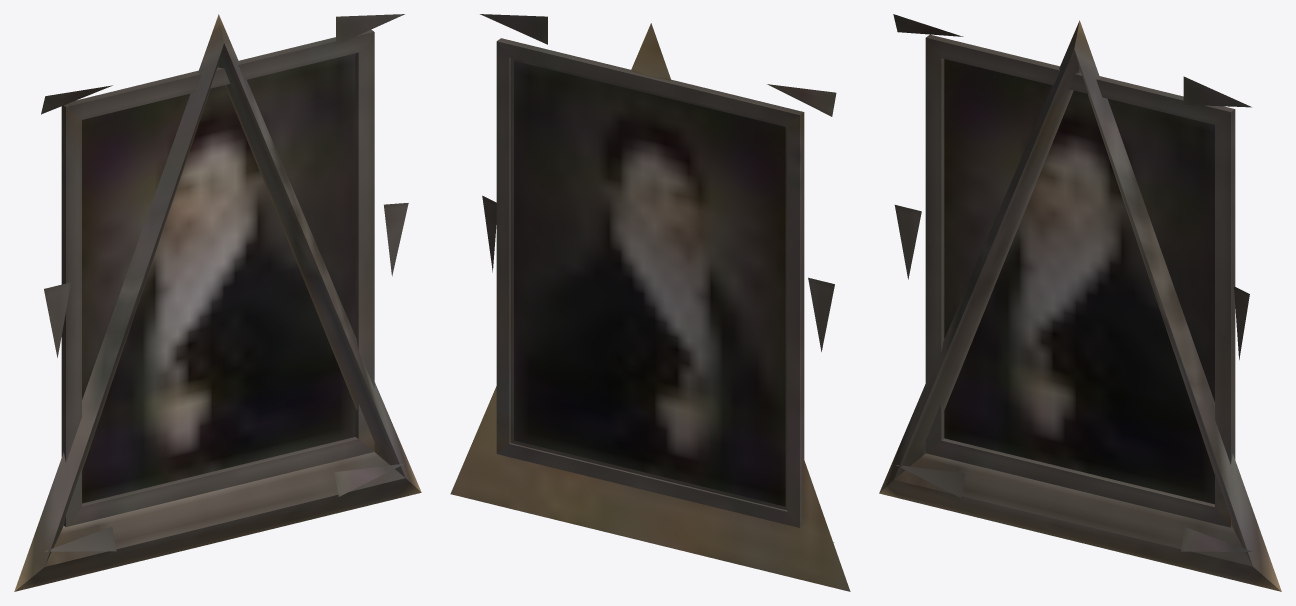
Rendered from painting-hall-8.lod1.glb.
3 renders of one model, left to right at view 1: azimuth 30°, elevation 25°; view 2: azimuth 150°, elevation 25°; view 3: azimuth 330°, elevation 25°, orthographic.
Parts seen in each view (by area): view 1: painting-hall-8; view 2: painting-hall-8; view 3: painting-hall-8.
Part boxes in pixels (bbox=[...]): painting-hall-8: bbox=[14, 14, 421, 591]; painting-hall-8: bbox=[450, 14, 850, 591]; painting-hall-8: bbox=[879, 14, 1281, 591].
Bounding box in the file's own units: 0.4845 × 0.6011 × 0.0243.
Materials: 1 (1 with a texture image).
